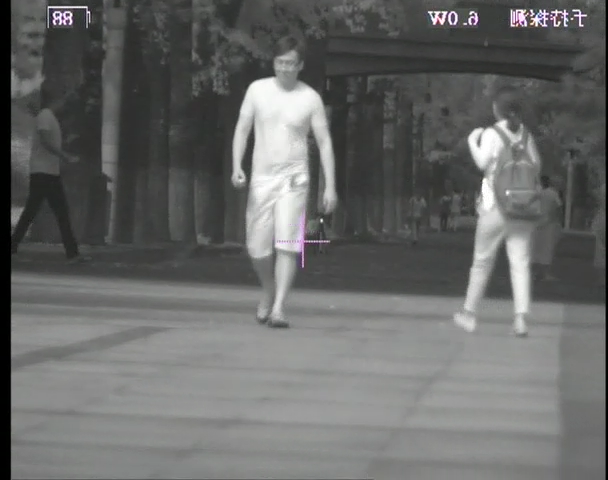my: (318, 217, 325, 224)
